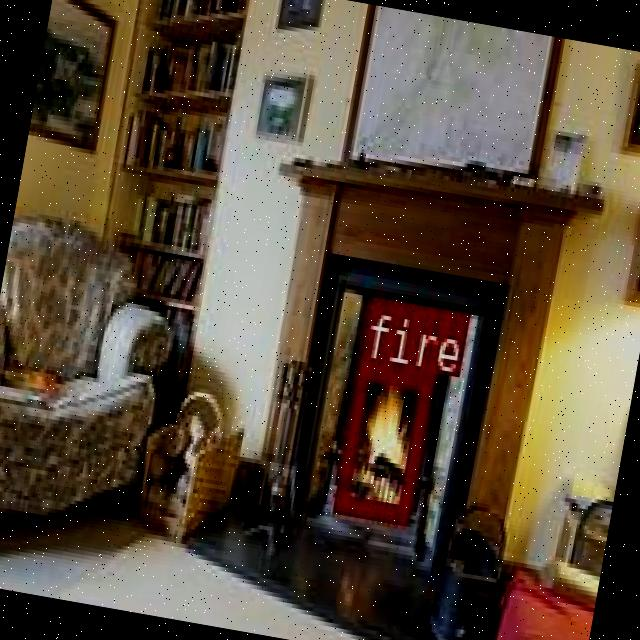fire: (332, 358, 432, 520)
